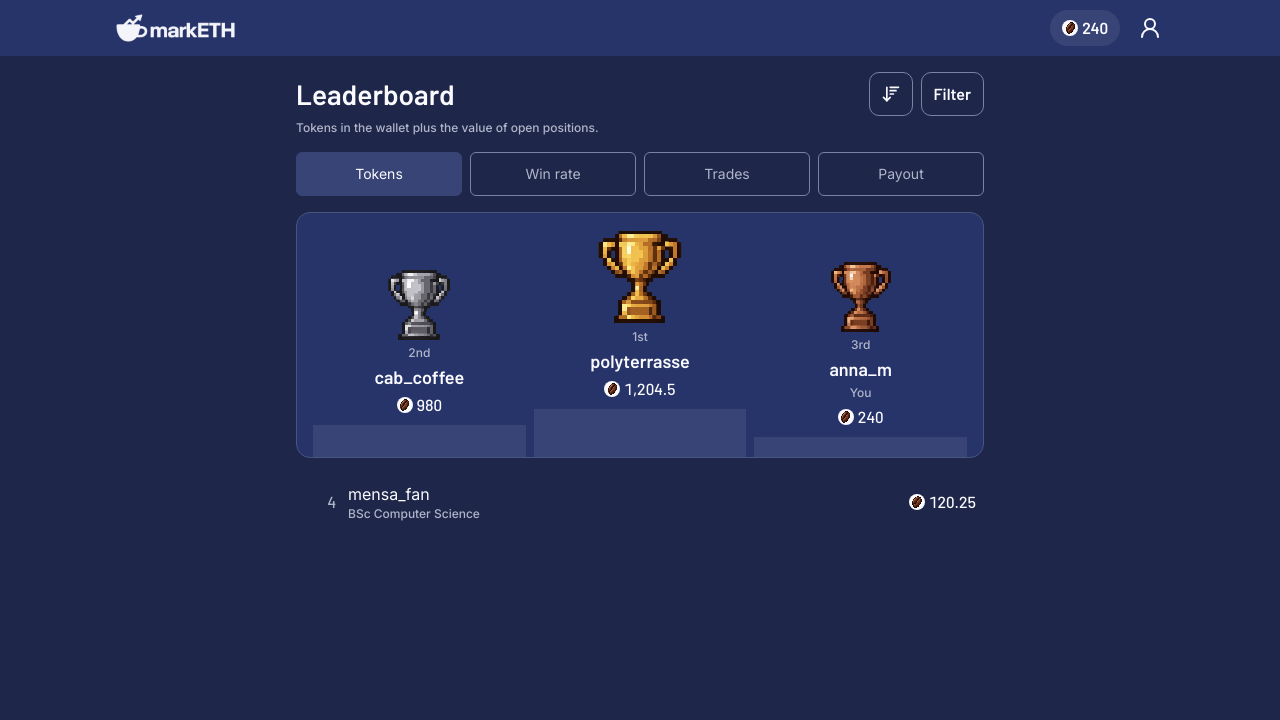
it: the statistics of a player › a player without a resolved market has no rates: none yet, and zero markets
Expected: the text "polyterrasse" is shown, [590, 350, 690, 372]
Note: The viewer stands third, on the podium.
Click the button "3rd anna_m You 240" at (861, 359), box [754, 261, 967, 457]
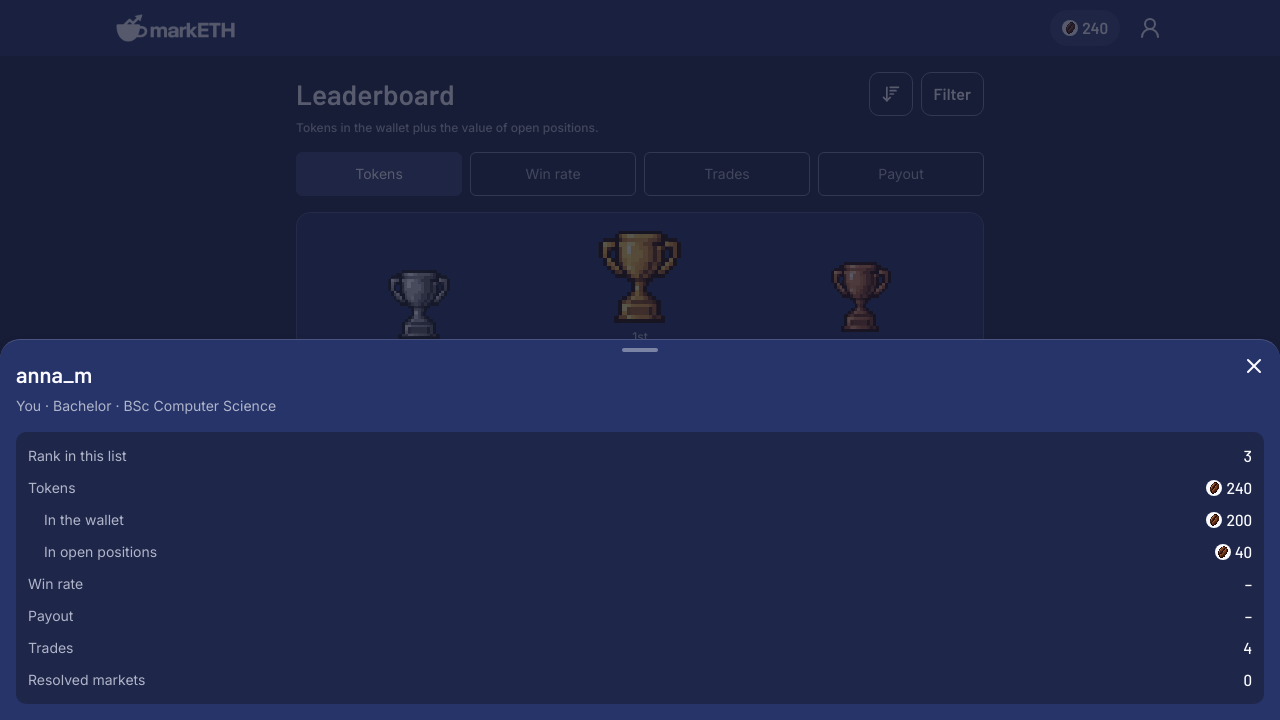
Now the text "3" is shown, box [1244, 444, 1252, 468]
Now the text "4" is shown, box [1244, 636, 1252, 660]
Now the text "0" is shown, box [1244, 668, 1252, 692]
